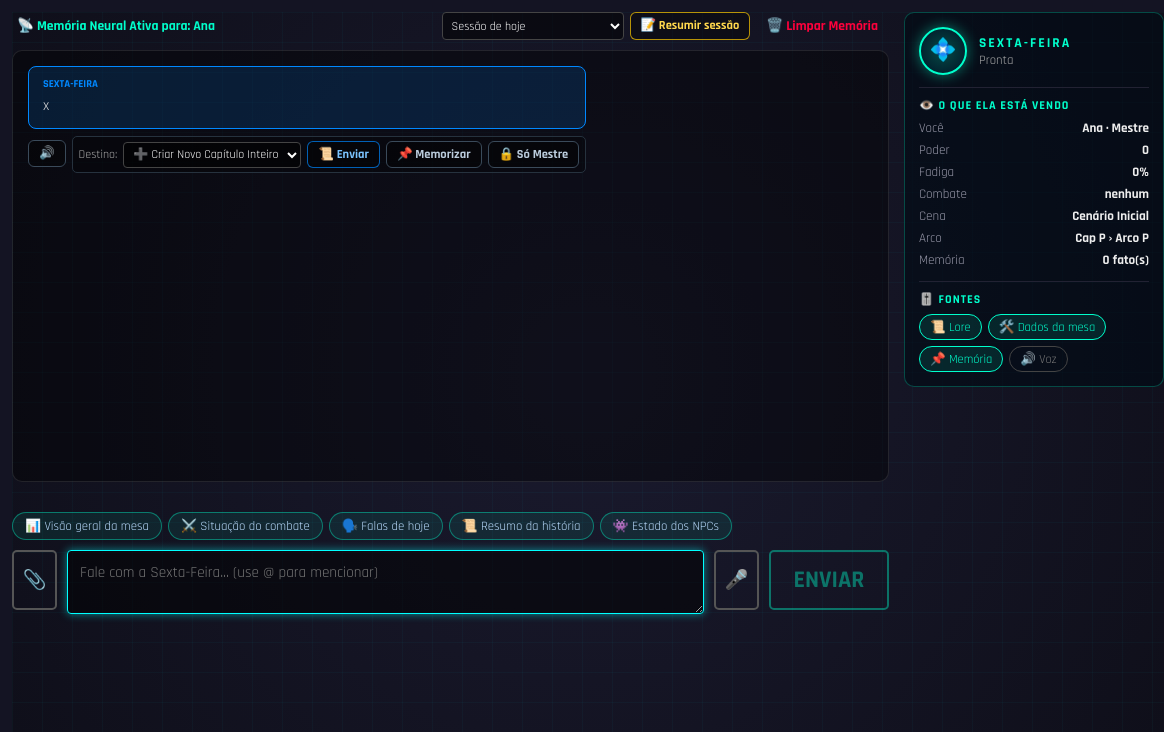
Test: AcoesMensagemIA (via AIChat) › Mestre: falha ao memorizar mostra mensagem de erro e nao quebra
Click the button "📌 Memorizar": (434, 155) [386,141,482,168]
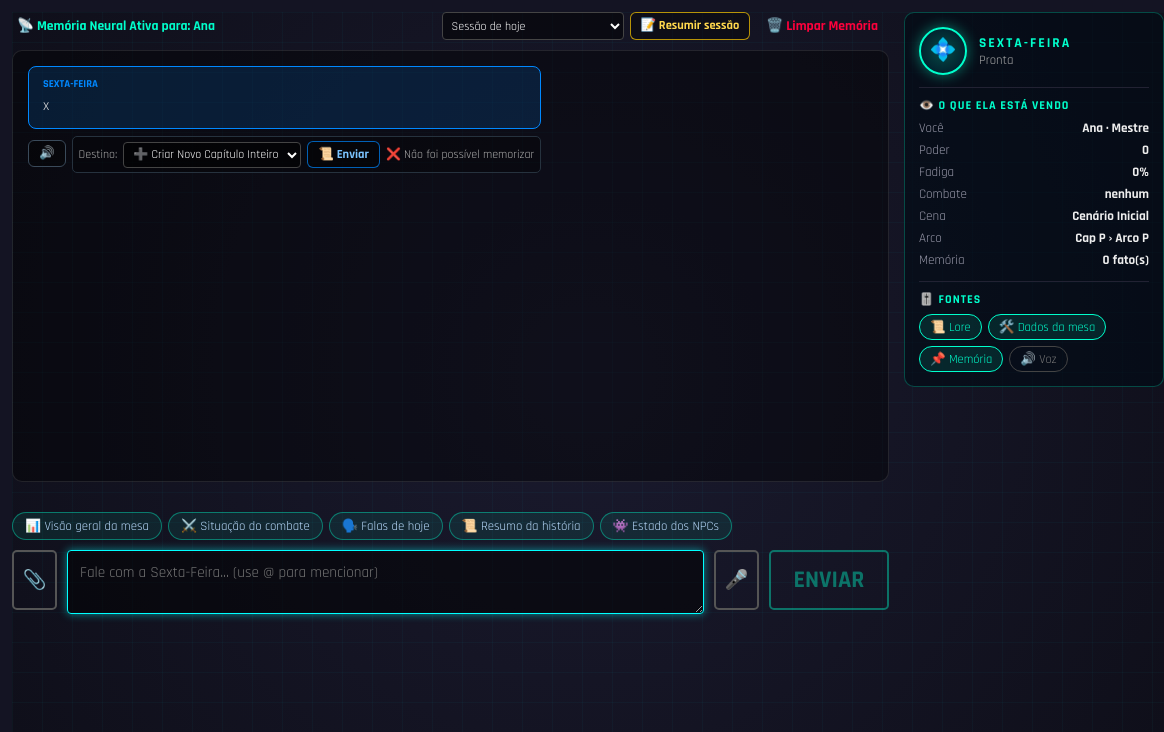
Result: the text "❌ Não foi possível memorizar" is shown at [386,147,534,162]
